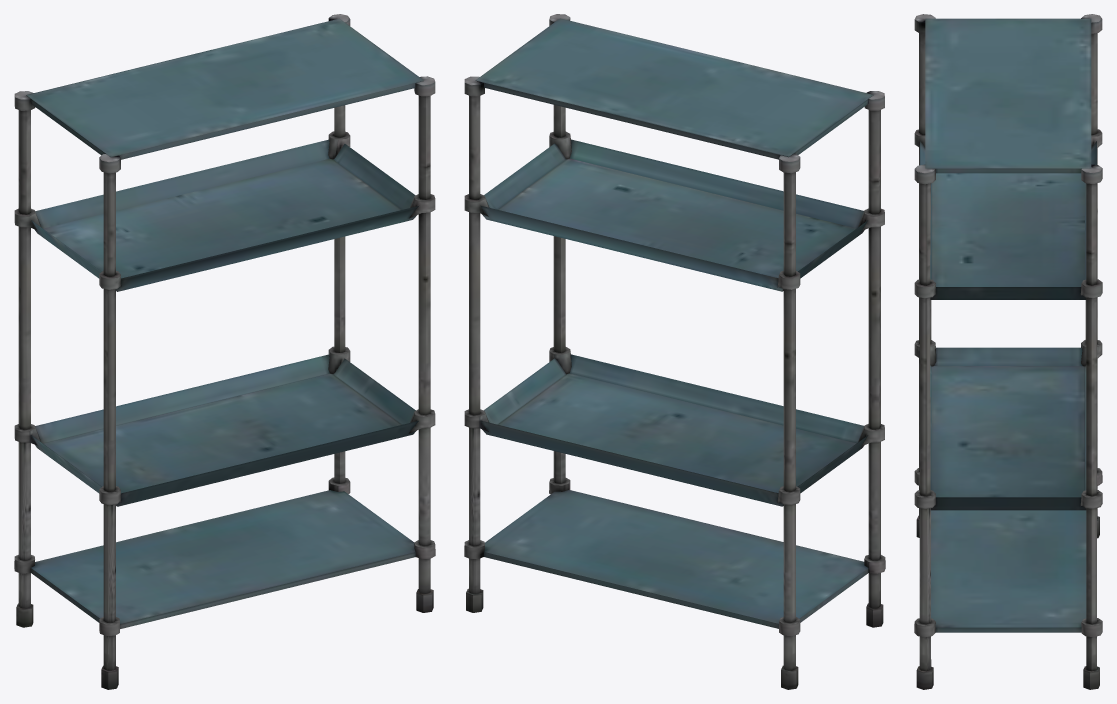
The model's file is kitchen_shelf001a.glb.
The picture shows the model from 3 angles, left to right: view 1: azimuth 30°, elevation 25°; view 2: azimuth 150°, elevation 25°; view 3: azimuth 270°, elevation 25°; orthographic projection. The views are drawn at different scales.
Parts seen in each view (by area): view 1: 0_kitchen_shelf001a; view 2: 0_kitchen_shelf001a; view 3: 0_kitchen_shelf001a.
Boxes of the visible parts, box(x1,y1,x2,y2) form: 0_kitchen_shelf001a: box(14, 14, 435, 689); 0_kitchen_shelf001a: box(464, 14, 885, 689); 0_kitchen_shelf001a: box(914, 14, 1102, 689).
Bounding box in the file's own units: 1.62 × 2.45 × 0.8066.
1 material, 1 textured.
